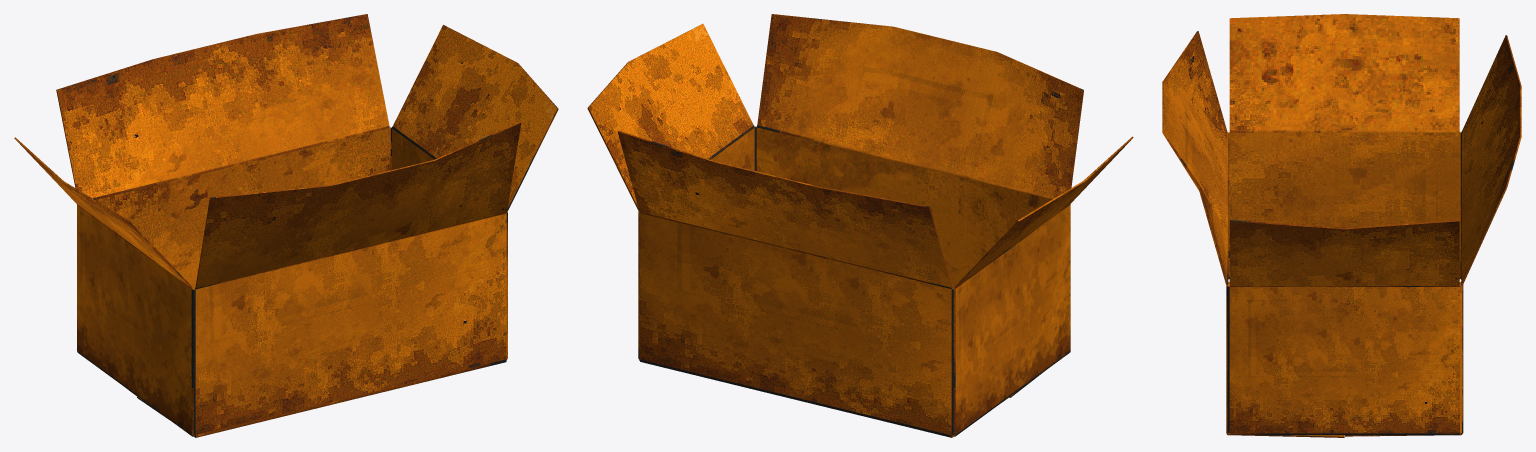
Rendered from testcarton.glb.
3 views of the same model, side by side, from view 1: azimuth 30°, elevation 25°; view 2: azimuth 150°, elevation 25°; view 3: azimuth 270°, elevation 25° (orthographic).
Parts seen in each view (by area): view 1: Carton petit ouvert; view 2: Carton petit ouvert; view 3: Carton petit ouvert.
Boxes of the visible parts, left/top/right/bottom form: Carton petit ouvert: left=14, top=14, right=558, bottom=437; Carton petit ouvert: left=587, top=14, right=1133, bottom=437; Carton petit ouvert: left=1162, top=14, right=1521, bottom=437.
Size of the model in its own units: 0.3438 by 0.1829 by 0.2339.
Materials: 1 (1 with a texture image).
